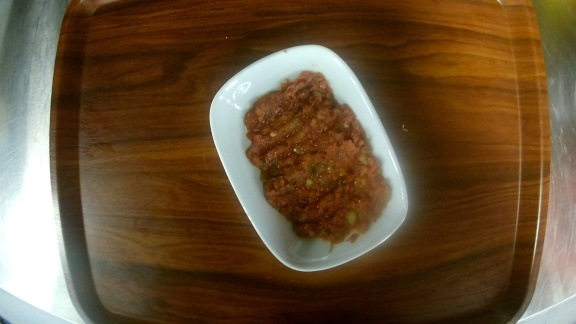acilimeze: (209, 44, 409, 272)
